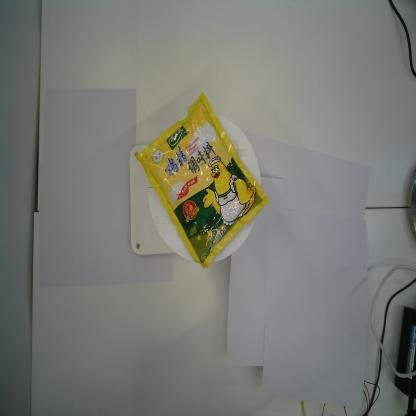Seasoner: (133, 92, 269, 269)
